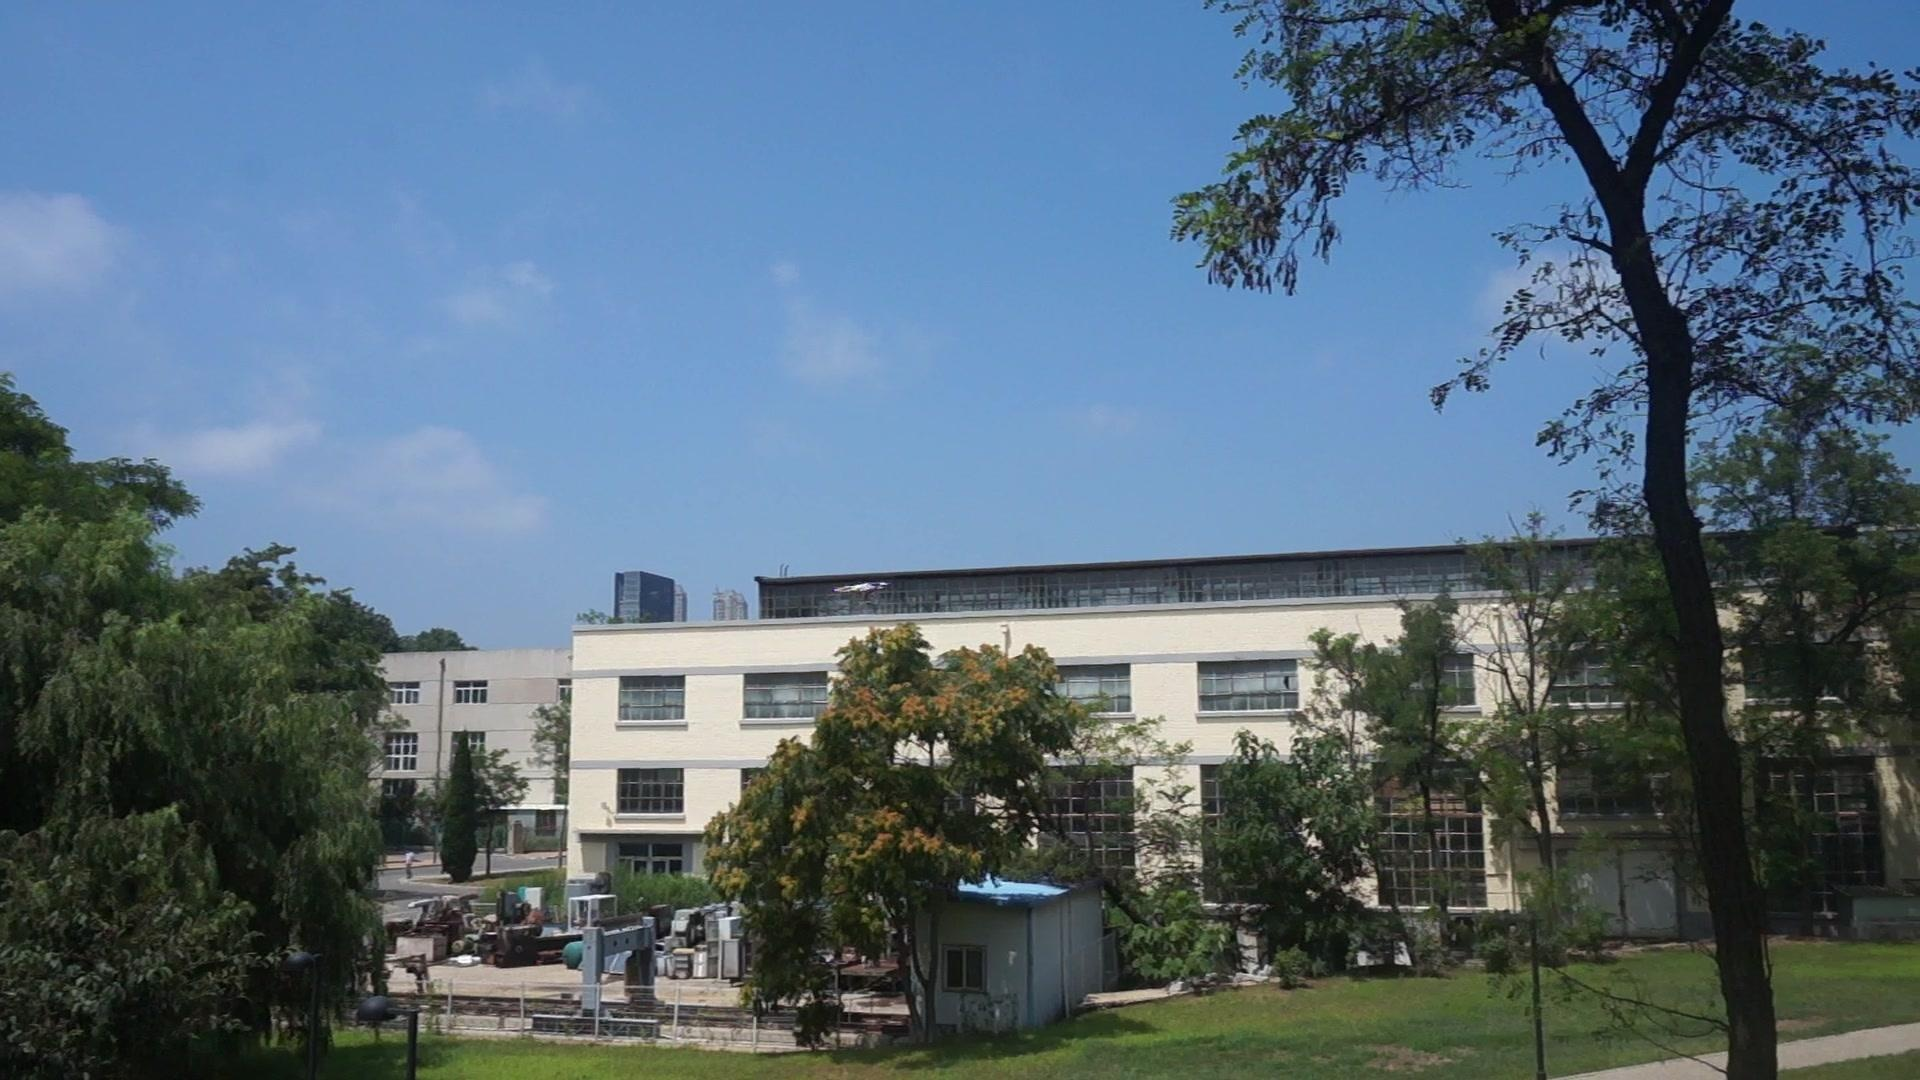UAV: (833, 583, 893, 601)
